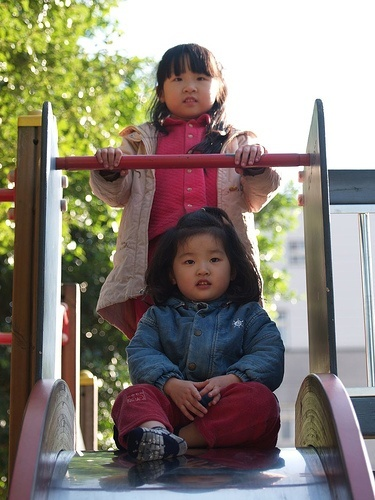head: (167, 205, 238, 306), (159, 42, 222, 118)
person: (112, 202, 285, 466), (88, 40, 281, 207)
